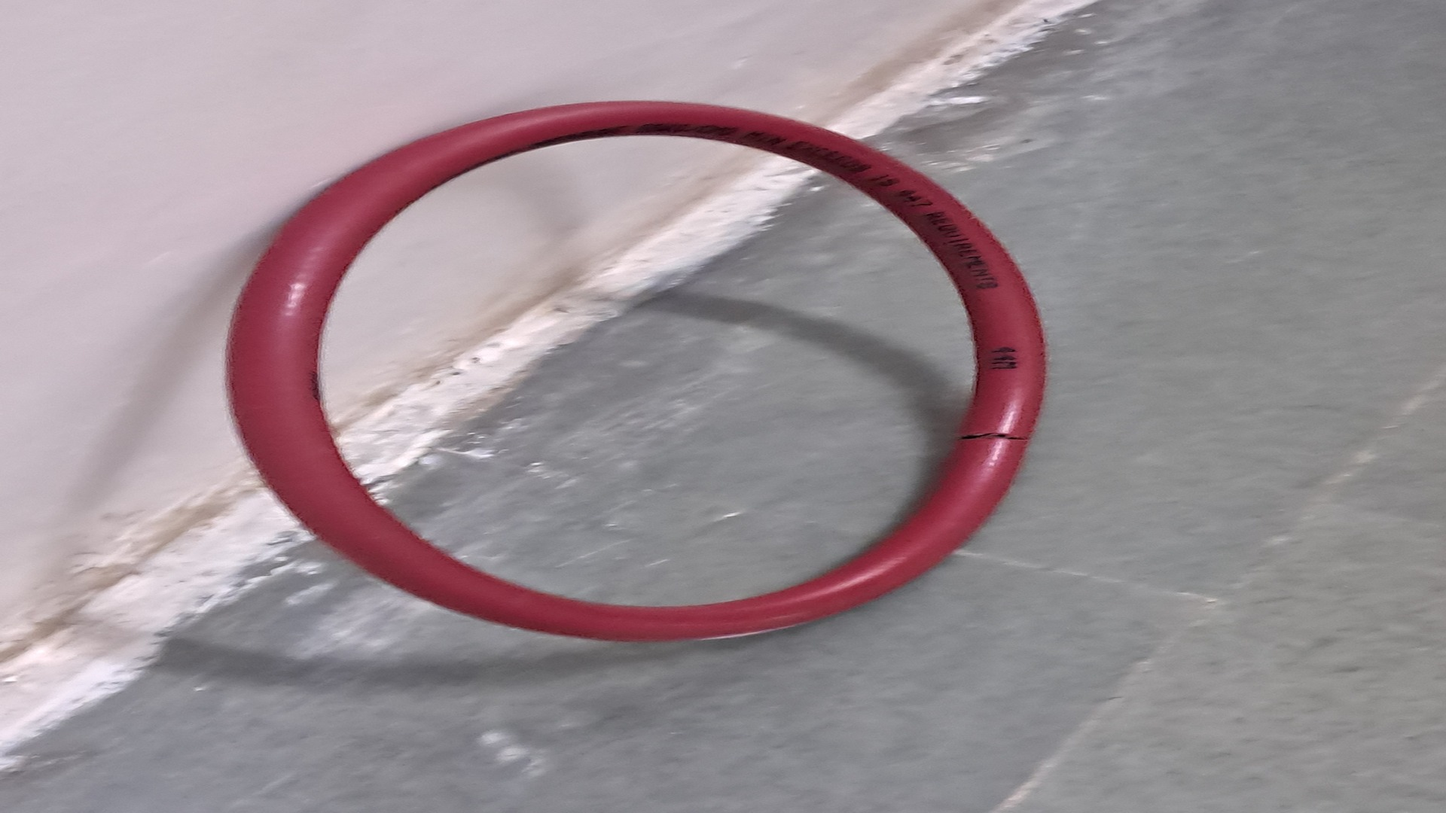Red ring: (228, 102, 1050, 637)
